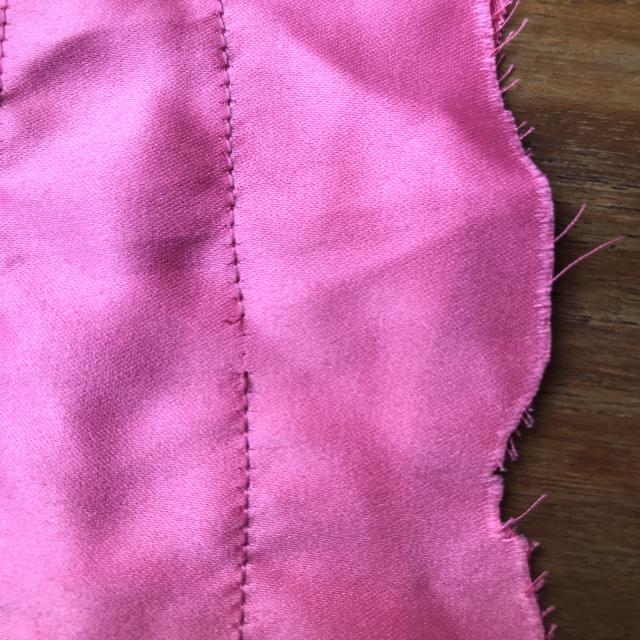broken: (206, 292, 276, 396)
